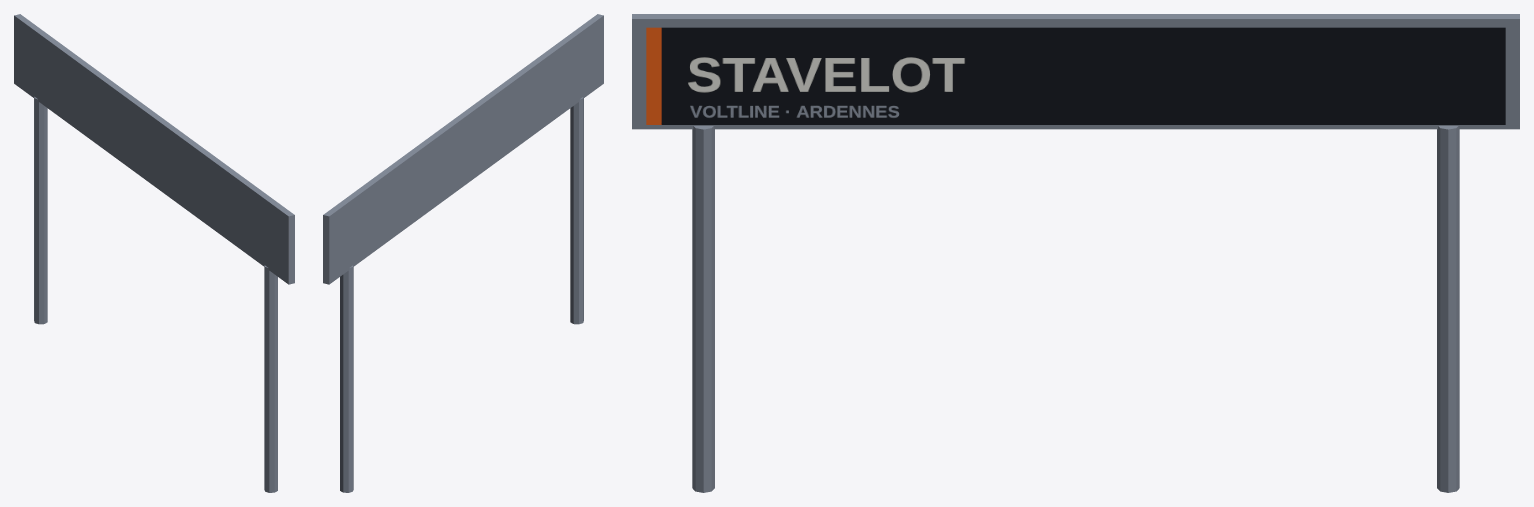
The model's file is corner_sign_stavelot.glb.
3 renders of one model, left to right at view 1: azimuth 30°, elevation 25°; view 2: azimuth 150°, elevation 25°; view 3: azimuth 270°, elevation 25°, orthographic. The views are drawn at different scales.
Parts seen in each view (by area): view 1: cornersign; view 2: cornersign; view 3: cornersign.
Boxes of the visible parts, x1,y1,x2,y2 form: cornersign: (14, 14, 294, 492); cornersign: (323, 14, 603, 492); cornersign: (632, 14, 1519, 492).
Bounding box in the file's own units: 0.16 × 3.62 × 6.2.
Materials: 2 (1 with a texture image).
